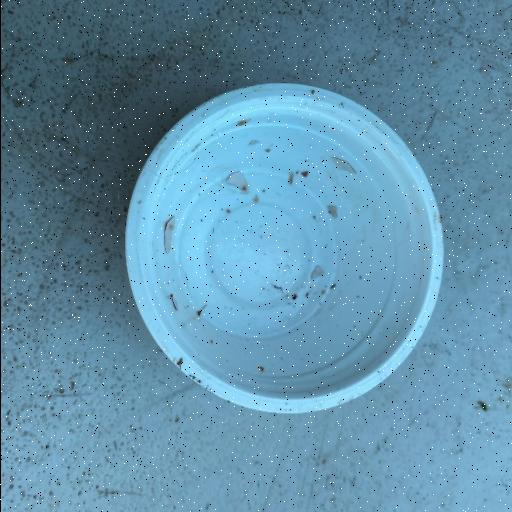Plastic: (122, 80, 444, 415)
